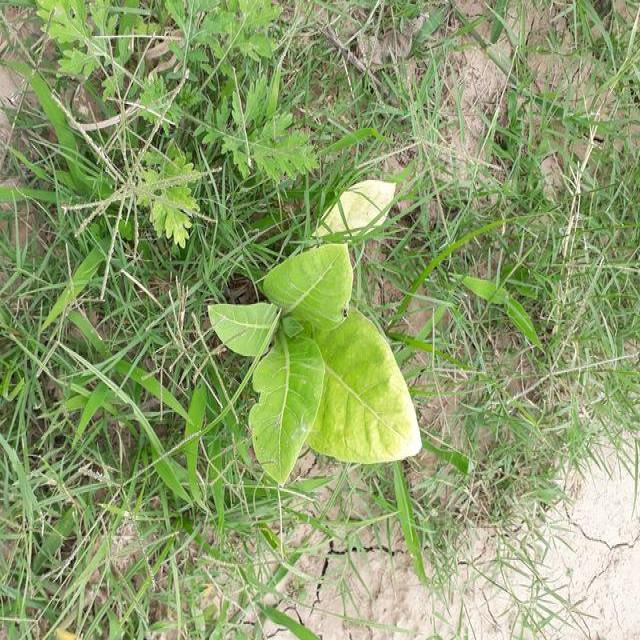crop: (210, 240, 422, 484)
